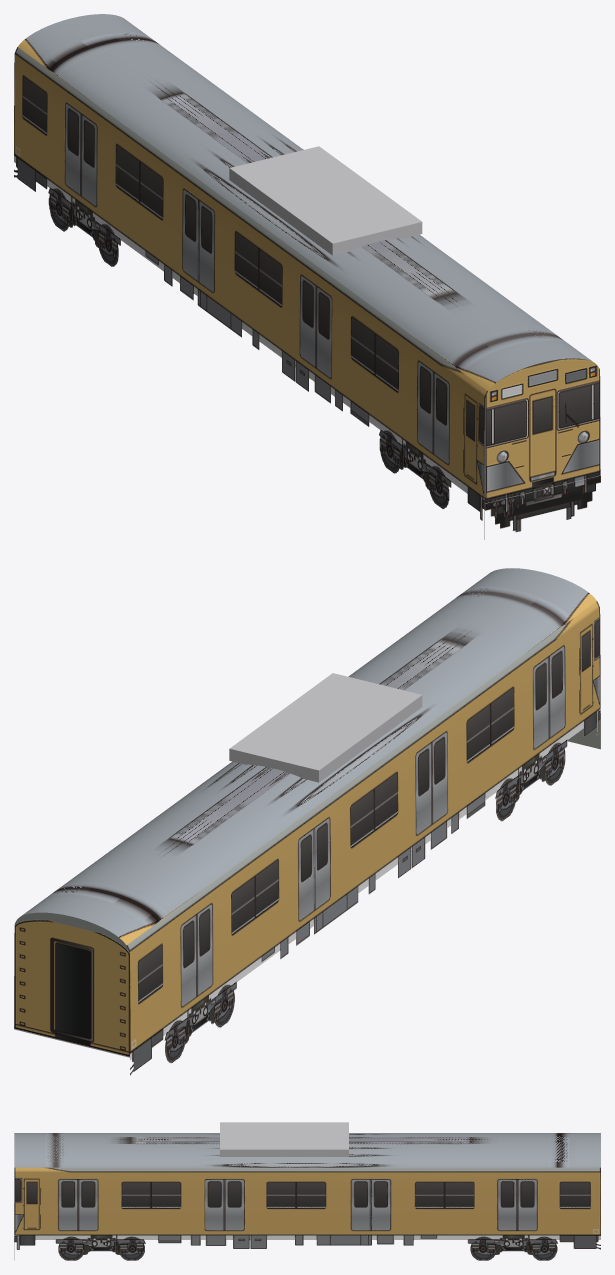
Rendered from car1.glb.
3 renders of one model, top to bottom at view 1: azimuth 30°, elevation 25°; view 2: azimuth 150°, elevation 25°; view 3: azimuth 270°, elevation 25°, orthographic. The views are drawn at different scales.
Parts seen in each view (by area): view 1: car1.glb; view 2: car1.glb; view 3: car1.glb.
Boxes of the visible parts, <box> form: car1.glb: <box>14,14,600,539</box>; car1.glb: <box>14,568,600,1075</box>; car1.glb: <box>14,1122,600,1260</box>.
Bounding box in the file's own units: 2.85 × 4.03 × 20.01.
Materials: 7 (5 with a texture image).
